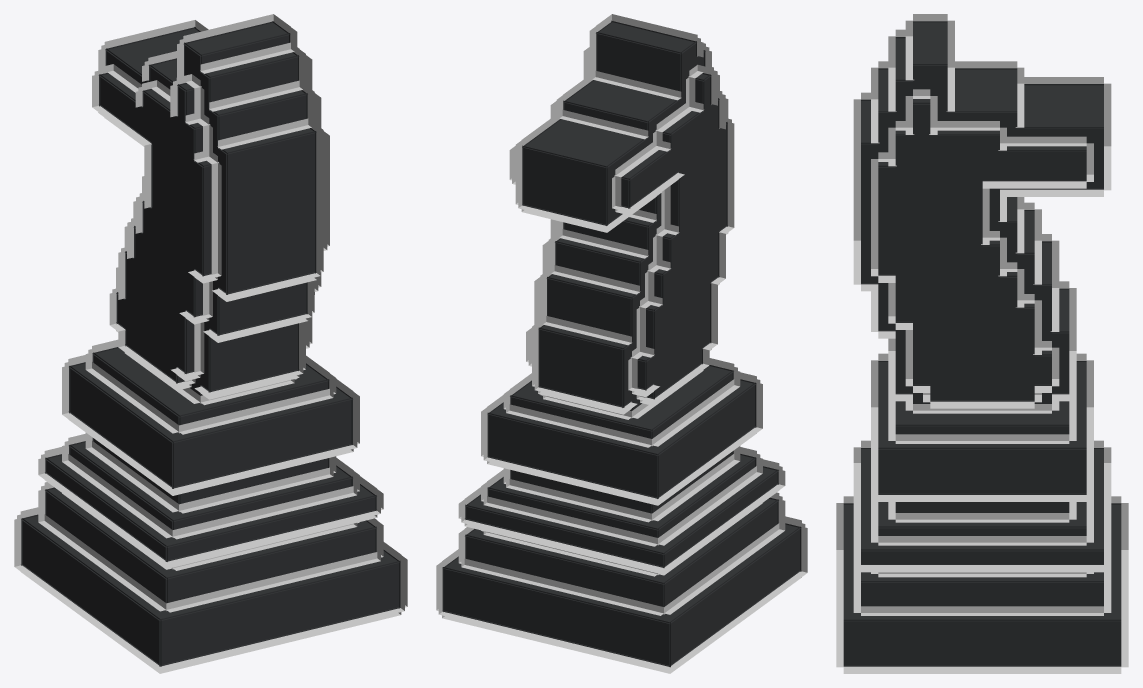
Rendered from black-knight.glb.
3 views of the same model, side by side, from view 1: azimuth 30°, elevation 25°; view 2: azimuth 150°, elevation 25°; view 3: azimuth 270°, elevation 25° (orthographic). The views are drawn at different scales.
Parts seen in each view (by area): view 1: chess-knight-black_model; view 2: chess-knight-black_model; view 3: chess-knight-black_model.
Boxes of the visible parts, x1,y1,x2,y2 form: chess-knight-black_model: (14, 14, 407, 673); chess-knight-black_model: (436, 14, 807, 673); chess-knight-black_model: (836, 14, 1128, 673).
Bounding box in the file's own units: 1.68 × 3.68 × 1.68.
2 materials, 1 textured.
